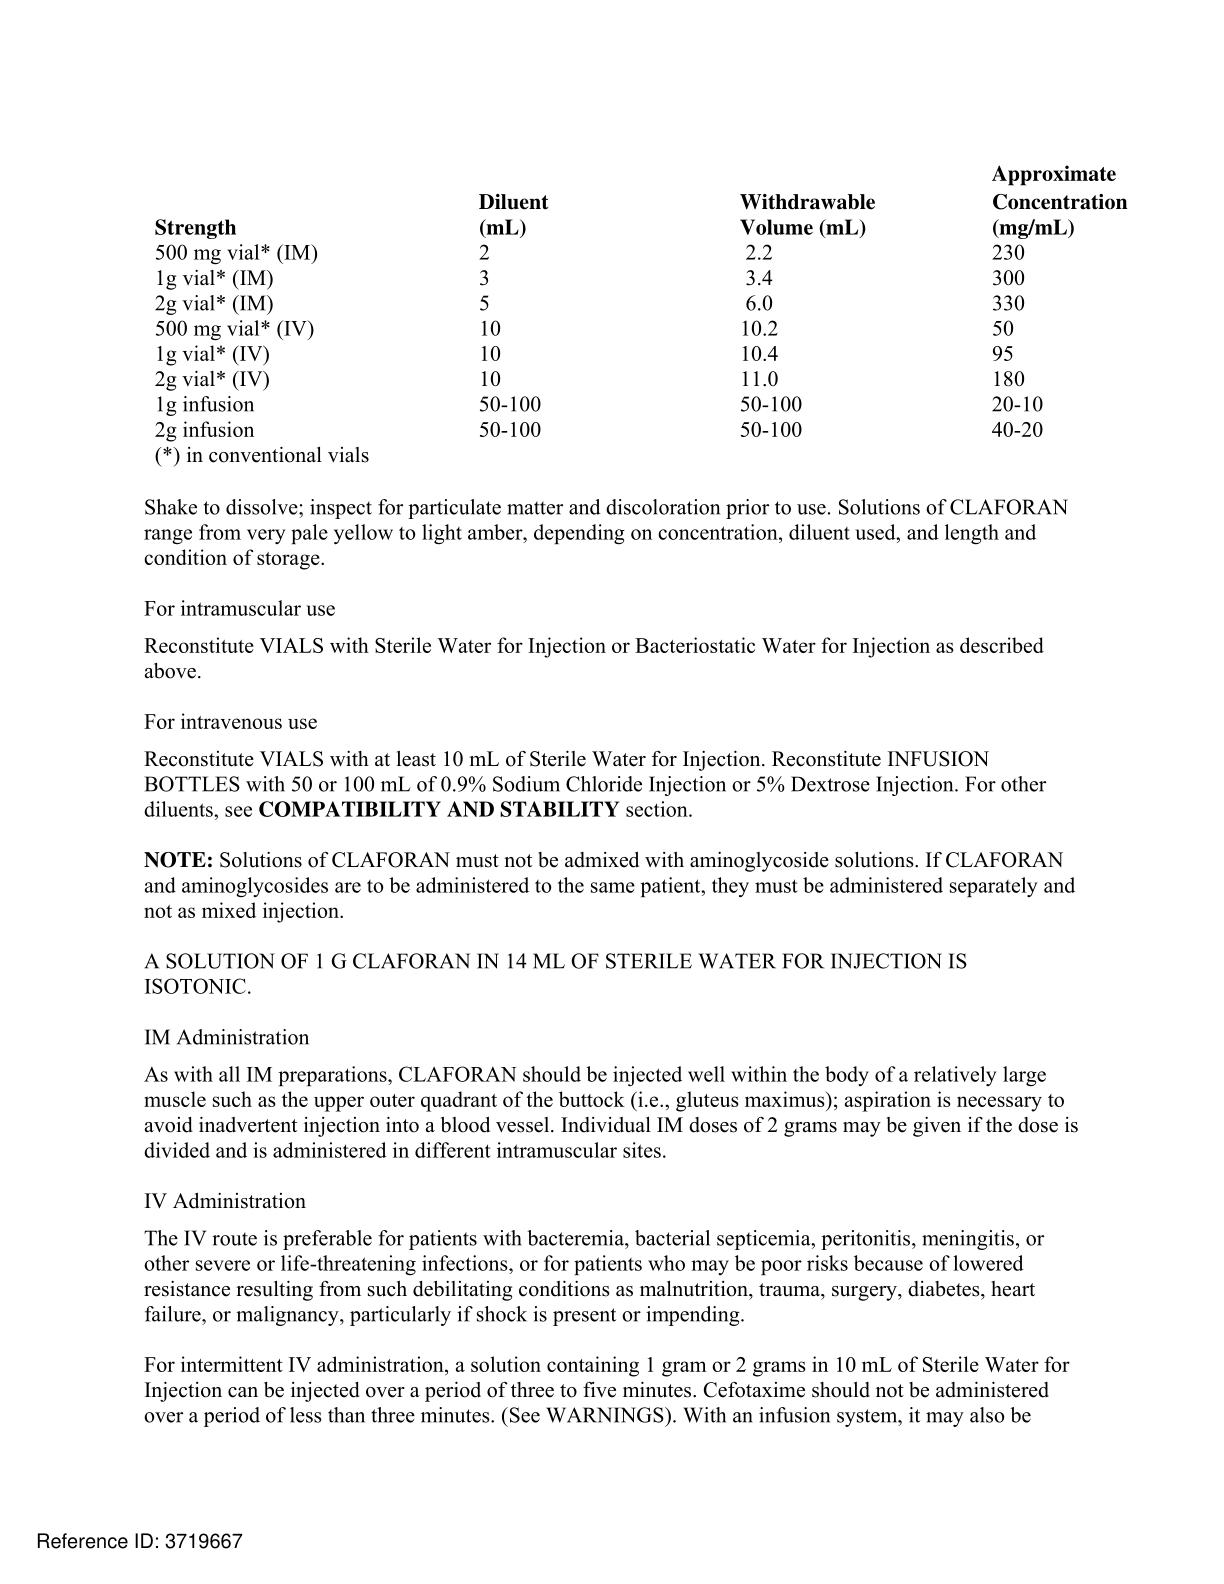nolines: (152, 159, 1131, 467)
